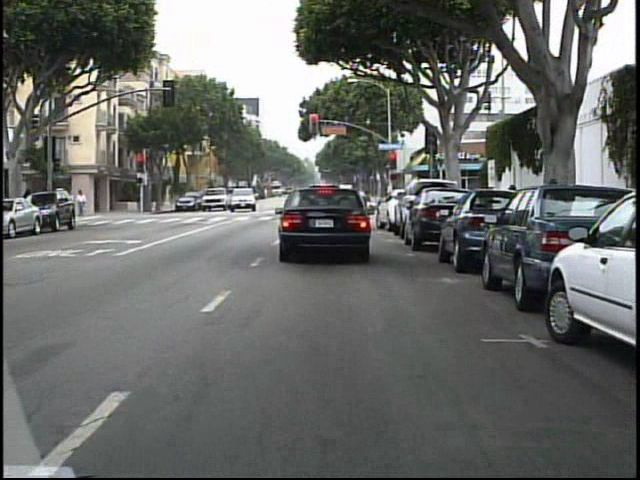person: (78, 187, 92, 218), (78, 188, 89, 219)
